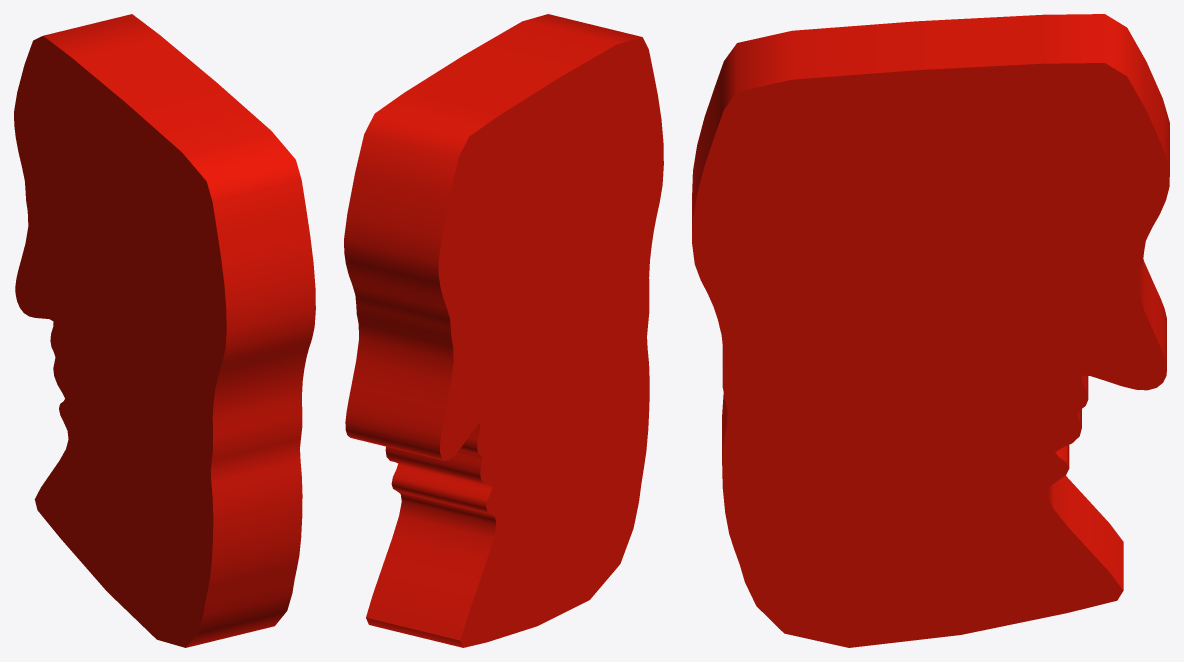
Rendered from head.fbx.
The picture shows the model from 3 angles, left to right: view 1: azimuth 30°, elevation 25°; view 2: azimuth 150°, elevation 25°; view 3: azimuth 270°, elevation 25°; orthographic projection. The views are drawn at different scales.
Visible parts, largest first — view 1: head; view 2: head; view 3: head.
Part boxes in pixels (x1,y1,x2,y2): head: (14, 14, 315, 647); head: (344, 14, 663, 647); head: (692, 14, 1169, 647).
Bounding box in the file's own units: 17.65 × 98.4 × 72.83.
